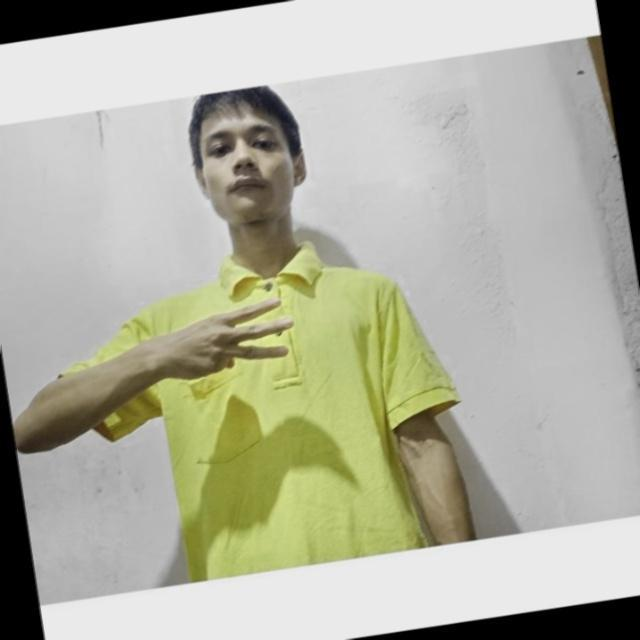E: (144, 285, 307, 379)
